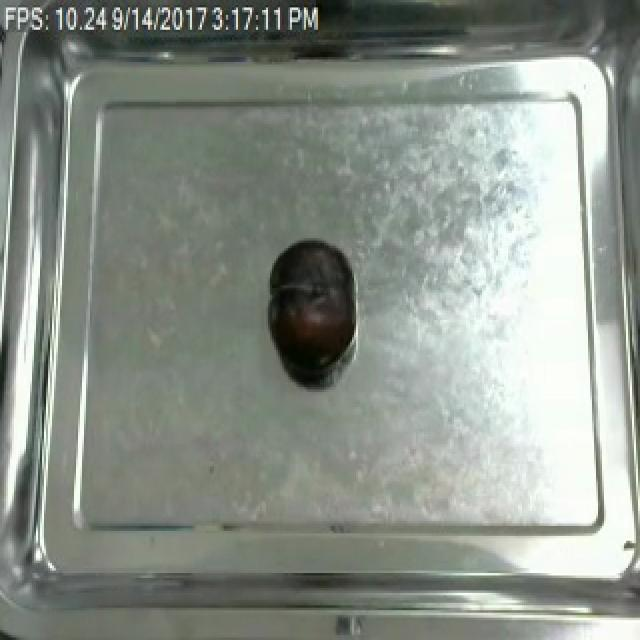Fruit: (262, 236, 356, 377)
